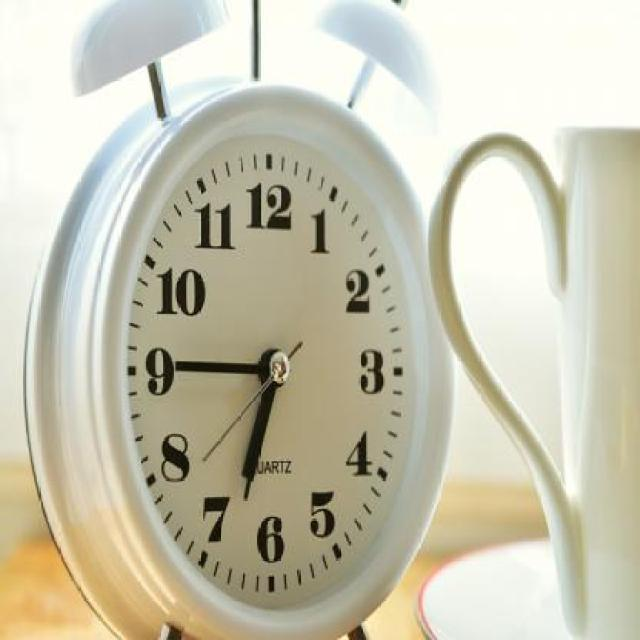clock: (123, 133, 419, 605)
